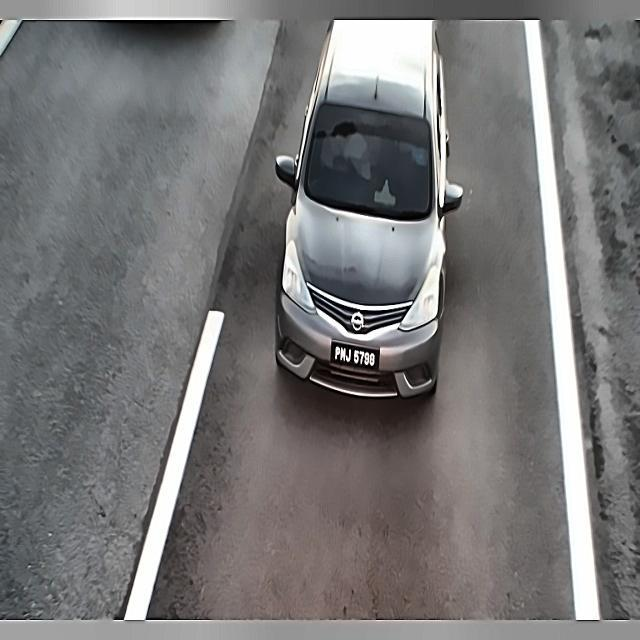car: (322, 329, 384, 378)
